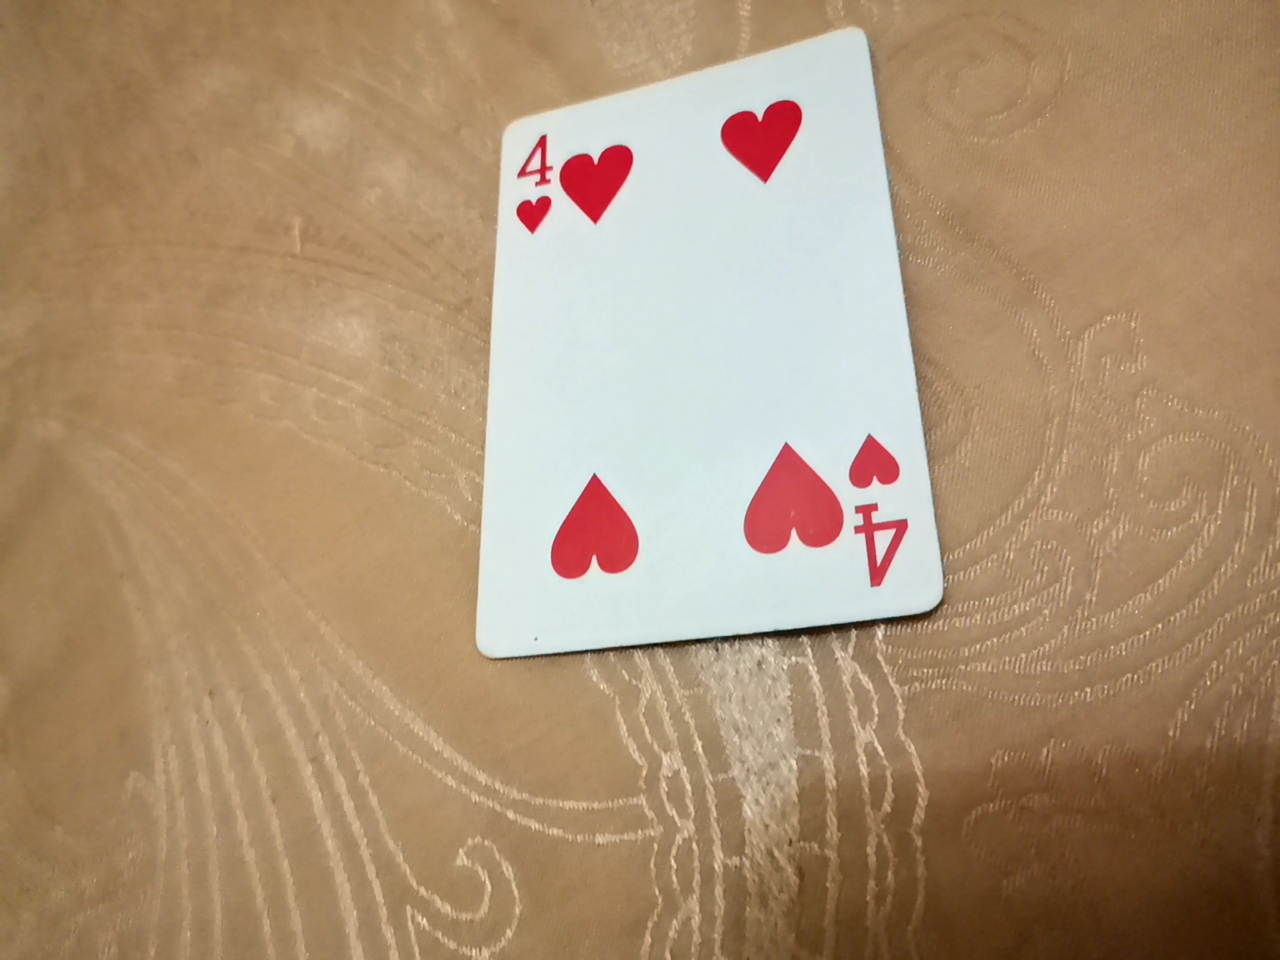hx 4: (489, 37, 948, 644)
